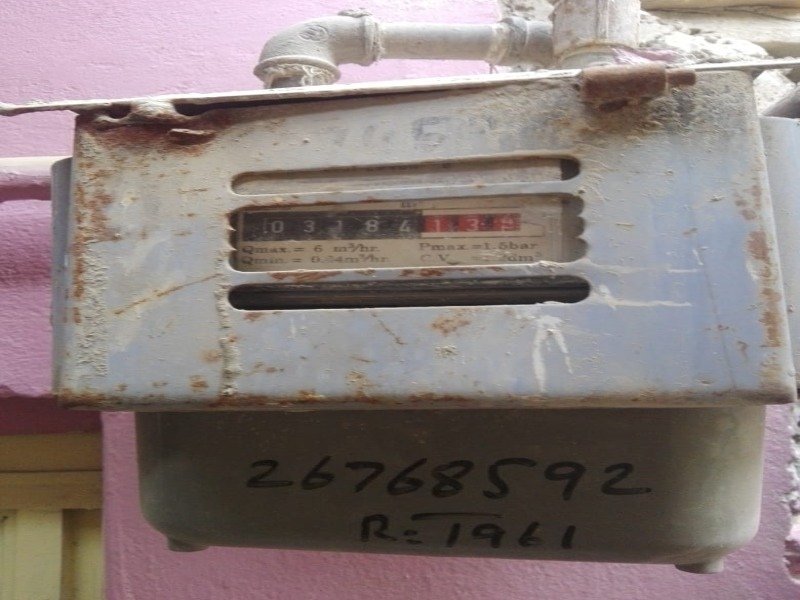ssgc: (244, 208, 534, 240)
